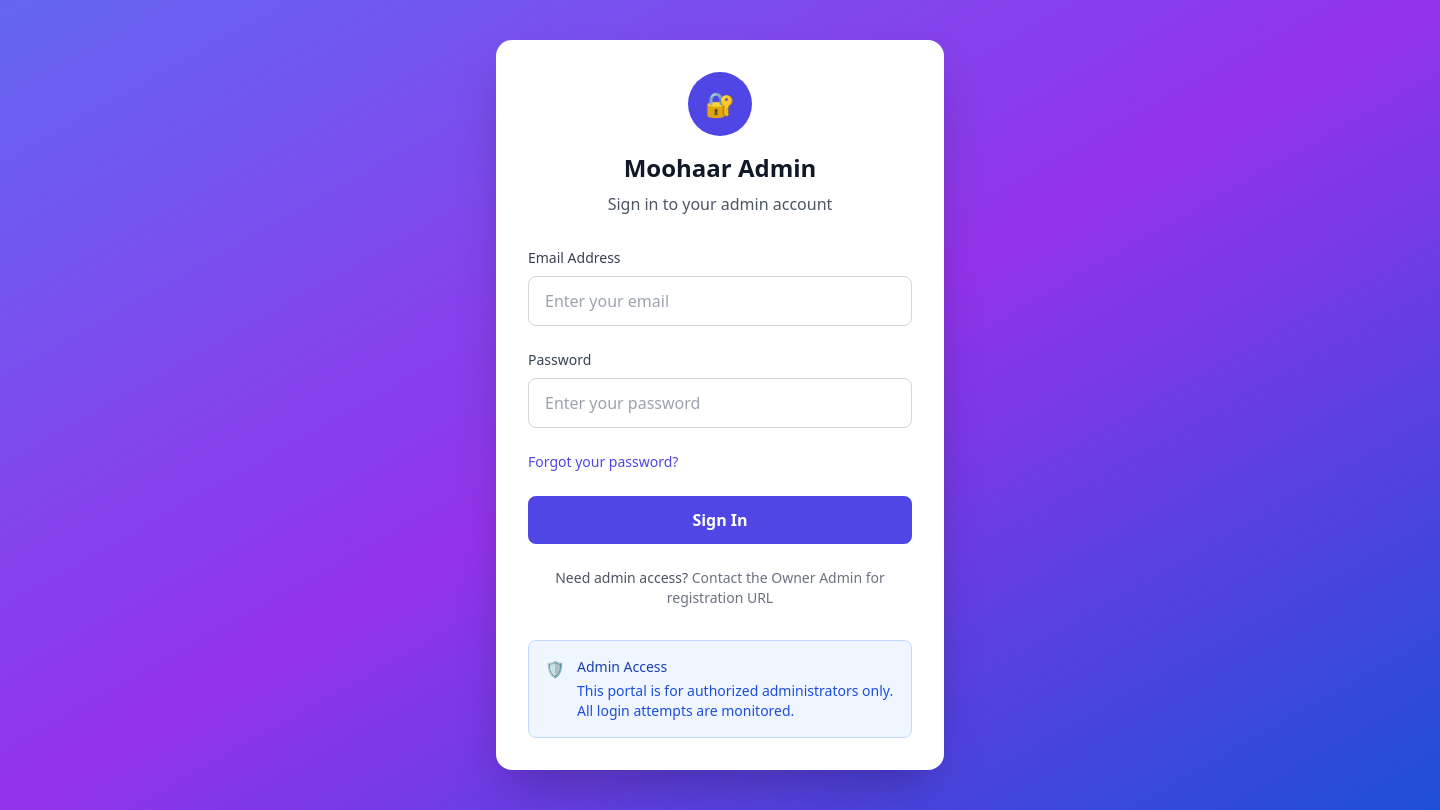
Test: Admin Login › shows generic error message when no specific error is provided
Type "admin@example.com" into the field labelled "Email Address" at [720, 301], box [528,276,912,326]
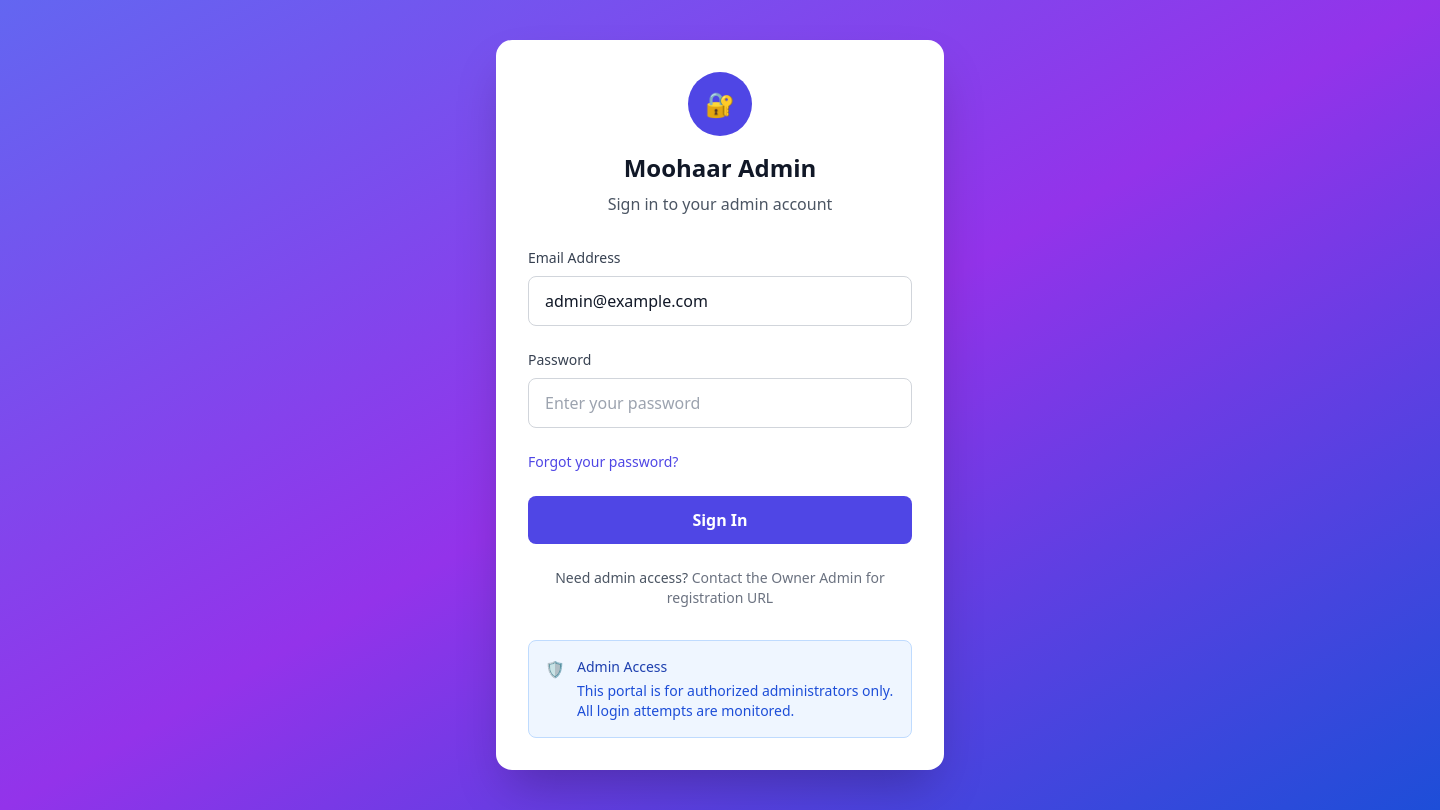
Type "password123" into the password field labelled "Password" at [720, 403], box [528,378,912,428]
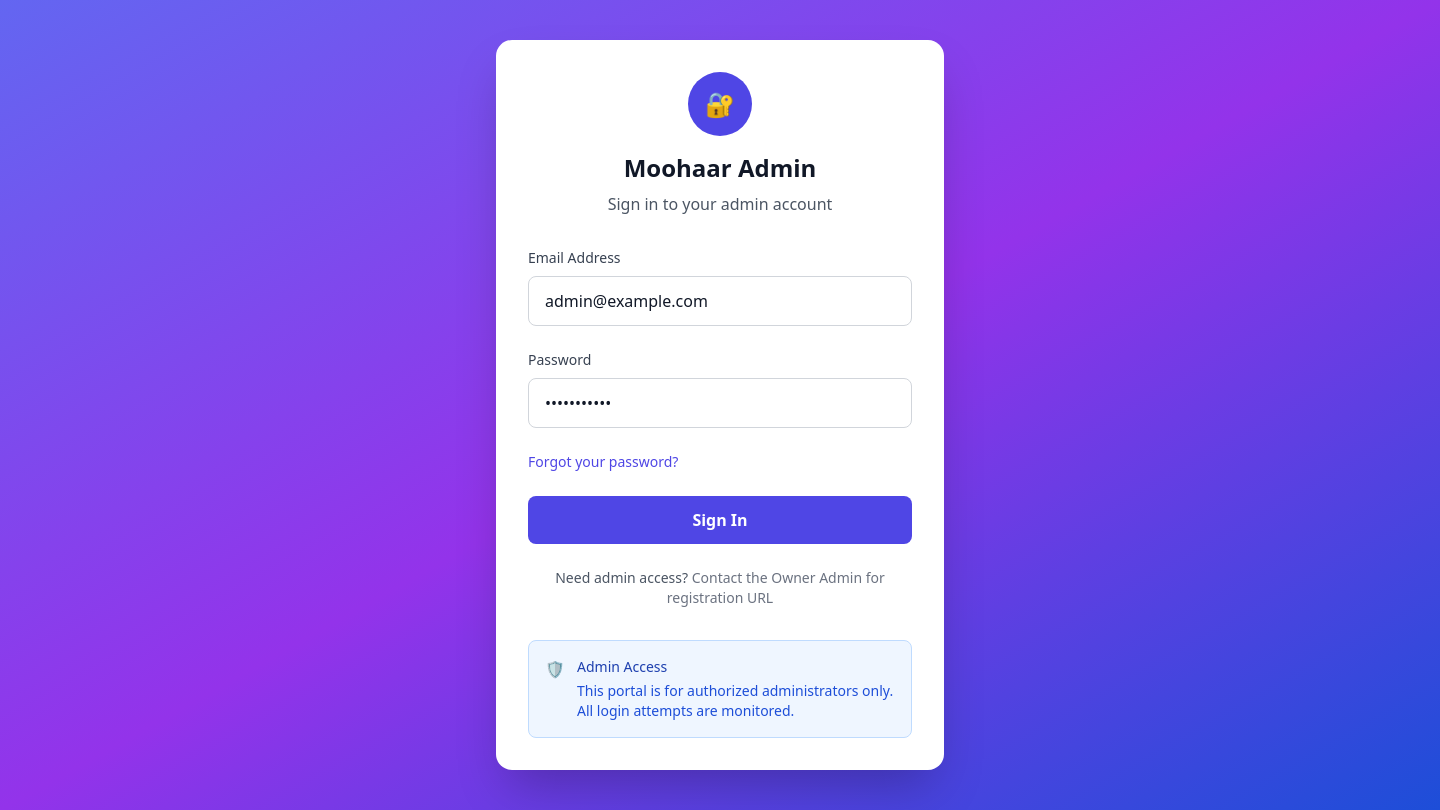
Click the button "Sign In" at [720, 520], box [528,496,912,544]
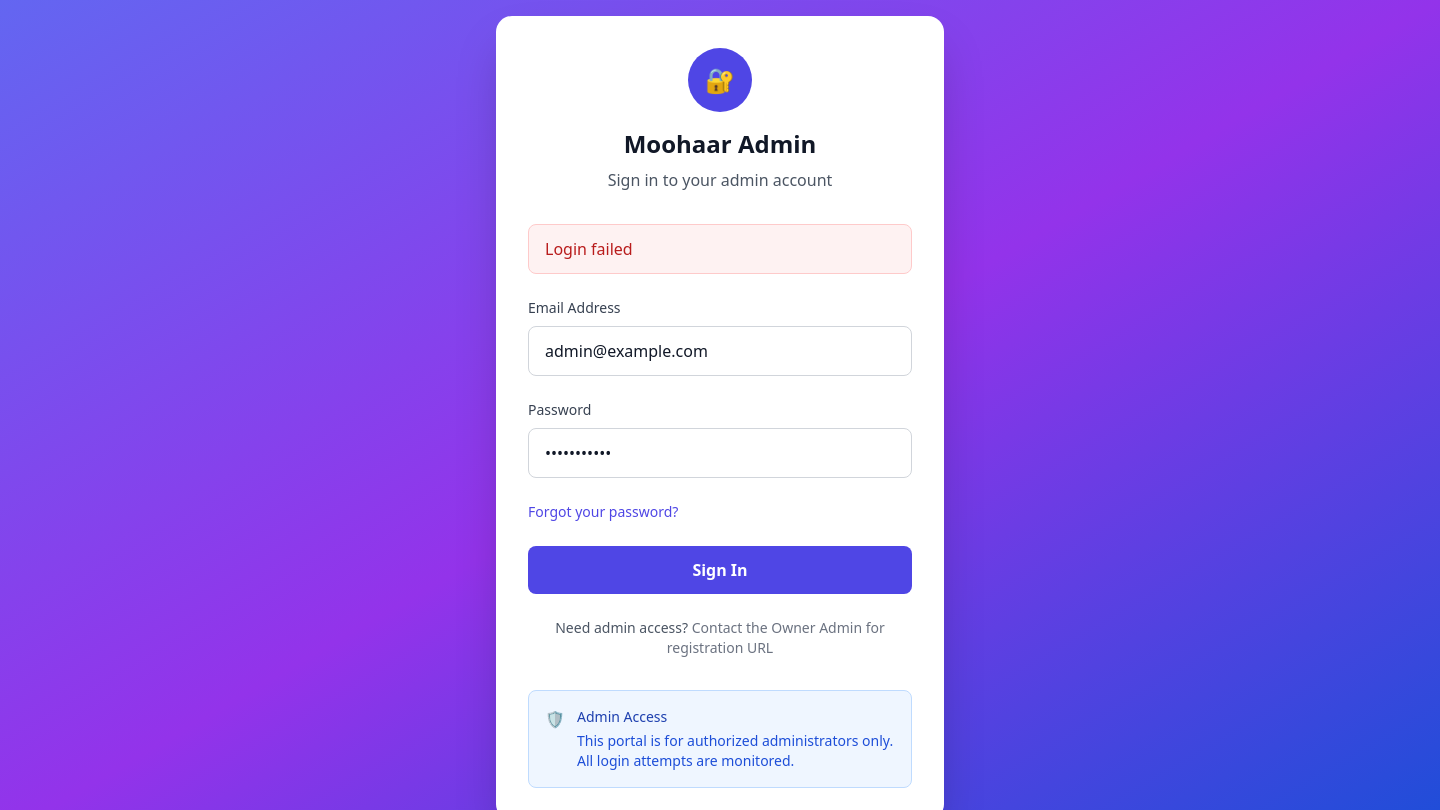
Expected: the text "Login failed" is shown, [528,224,912,274]
